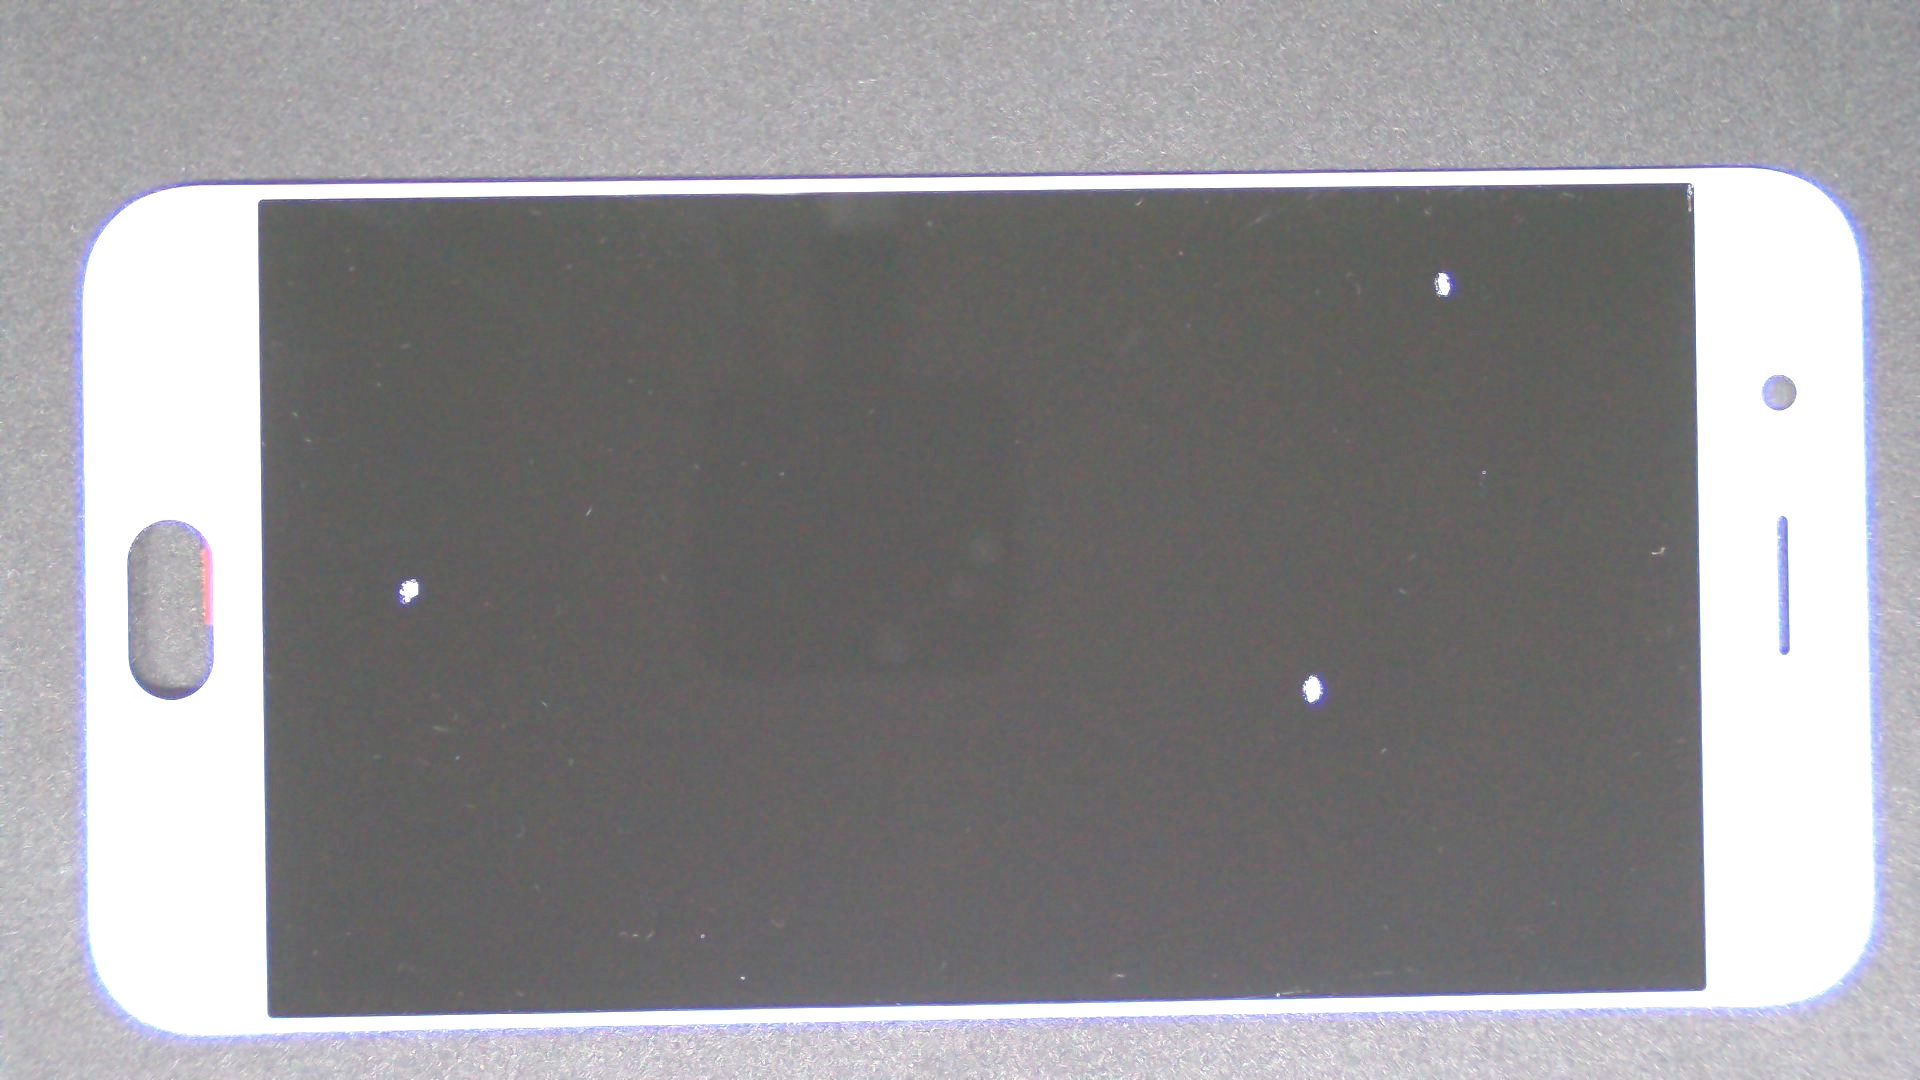oil: (658, 336, 1920, 1010), (720, 135, 1920, 407), (206, 287, 615, 866)
